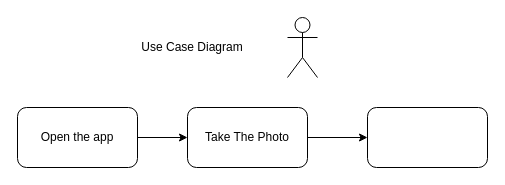
The diagram is 505 pixels wide and 185 high, and some of its shapes have lost their labels. The shapes that lost their labels are listed below. From the top down, each one's centre as x and y in pixels, then its label:
At (302,47): "Actor".
At (427,137): "Send photo to server".
